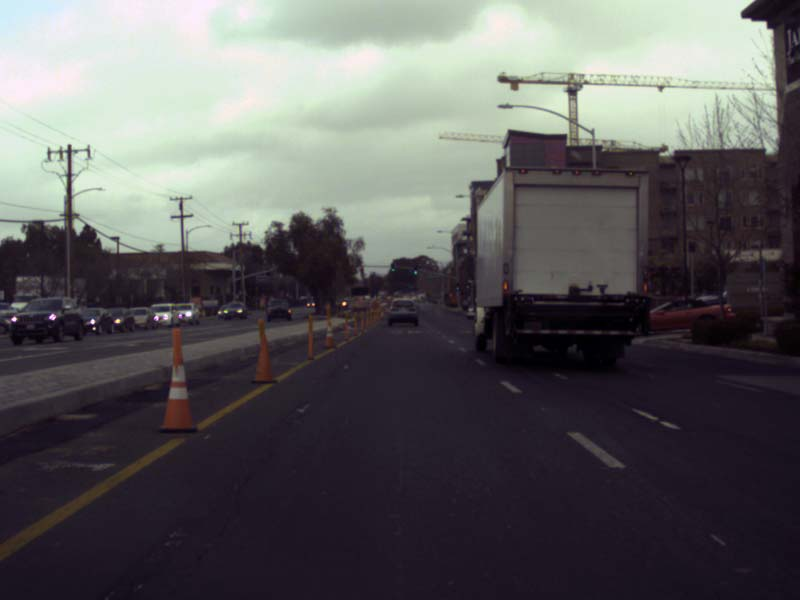Green: (466, 283, 470, 291), (391, 263, 394, 270), (455, 283, 458, 289), (414, 266, 416, 274)
Red: (360, 265, 363, 273)
